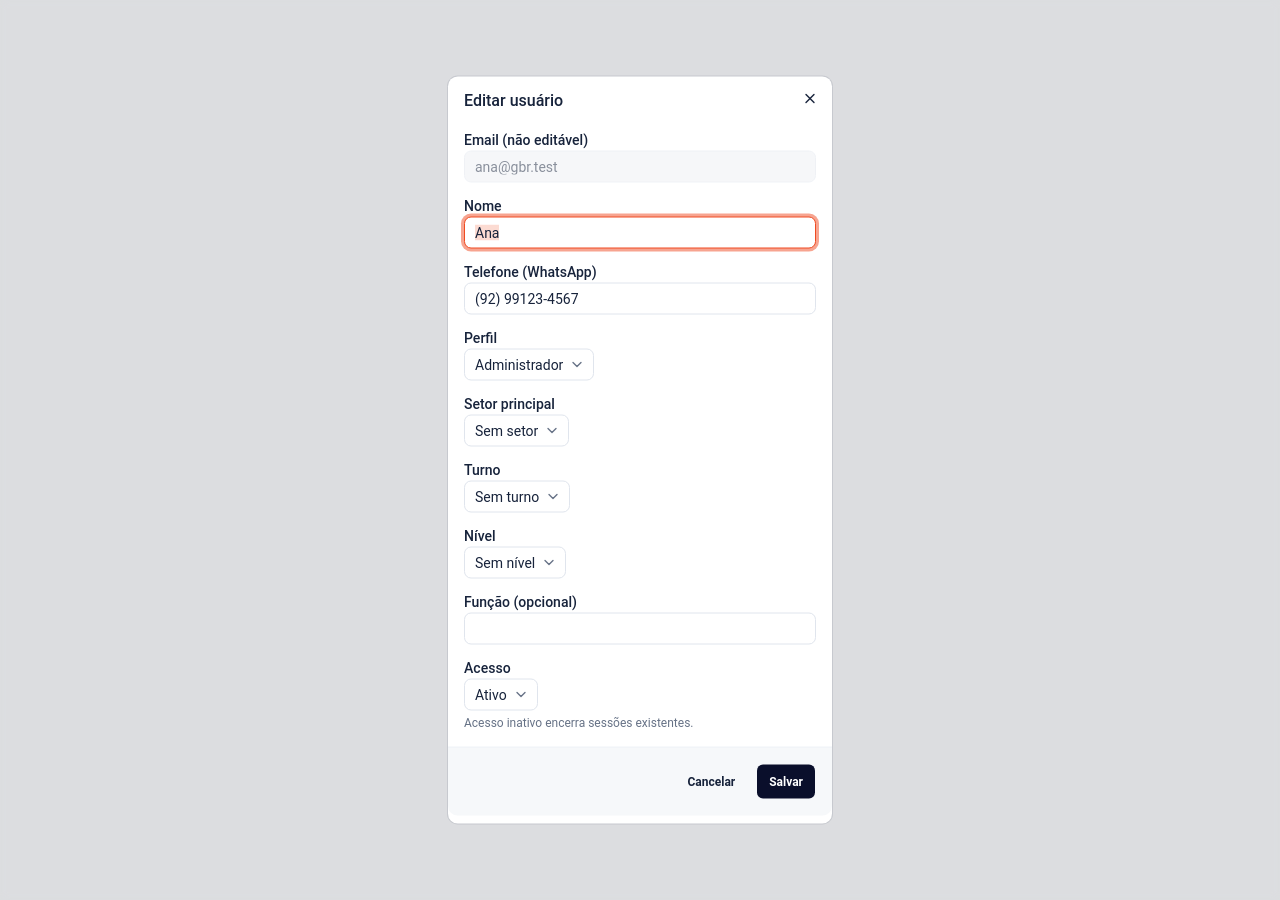
EditUserDialog phone › opens with the formatted phone and blocks clearing it
The width and height of the screenshot is (1280, 900).
Clear the field labelled "Telefone (WhatsApp)" at (640, 298), box x1=464 y1=282 x2=816 y2=314
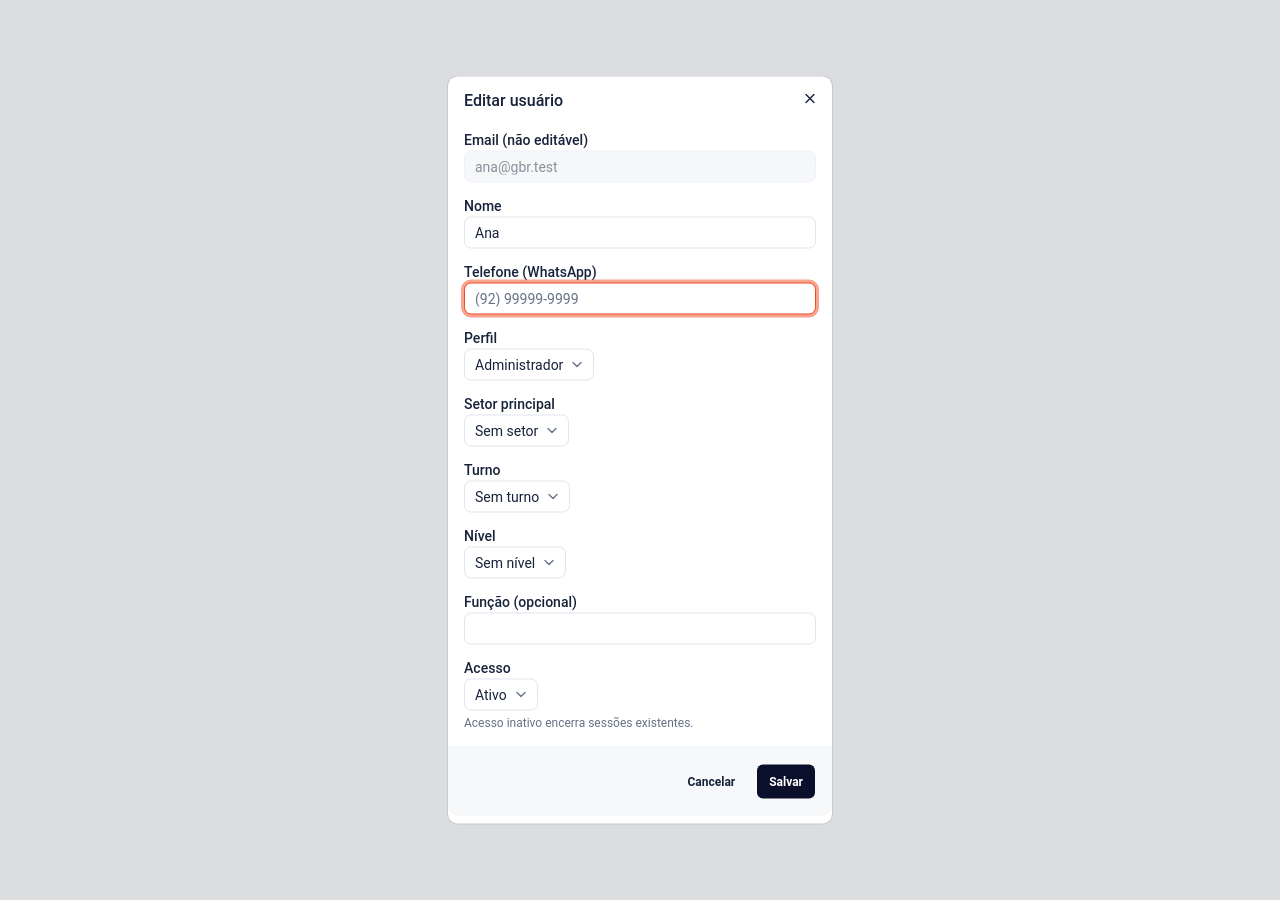
Click the button "Salvar" at (786, 782), box x1=756 y1=764 x2=816 y2=800
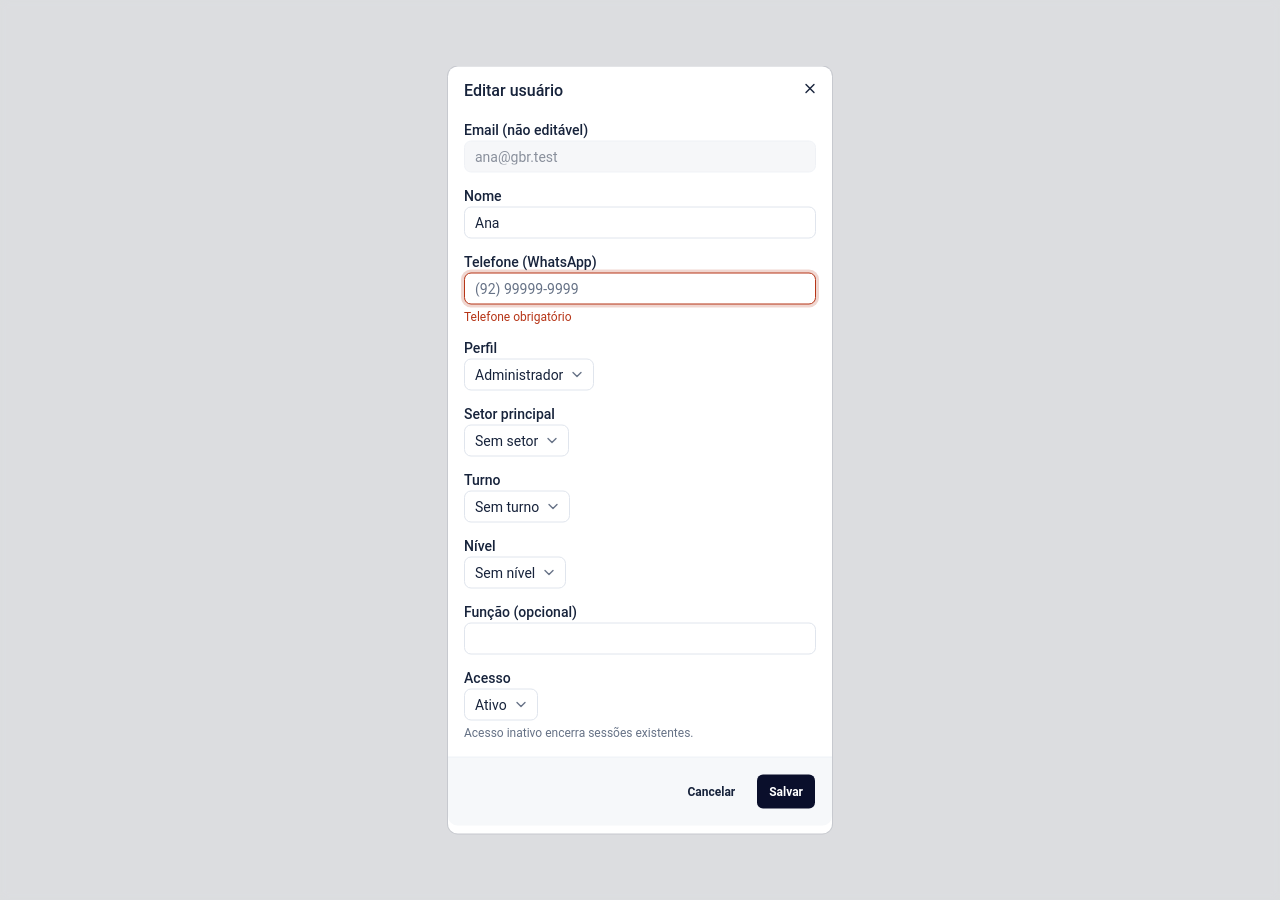
expect the text "Telefone obrigatório" is shown: met, box x1=464 y1=310 x2=572 y2=324
